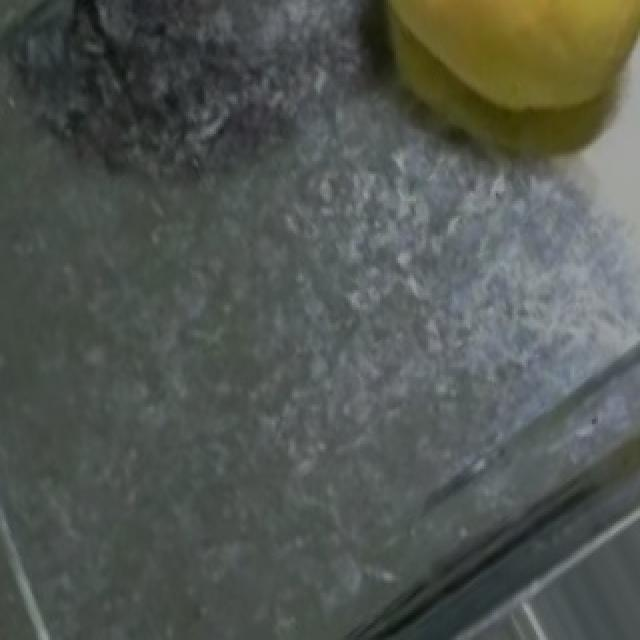fruit: (340, 0, 638, 171)
